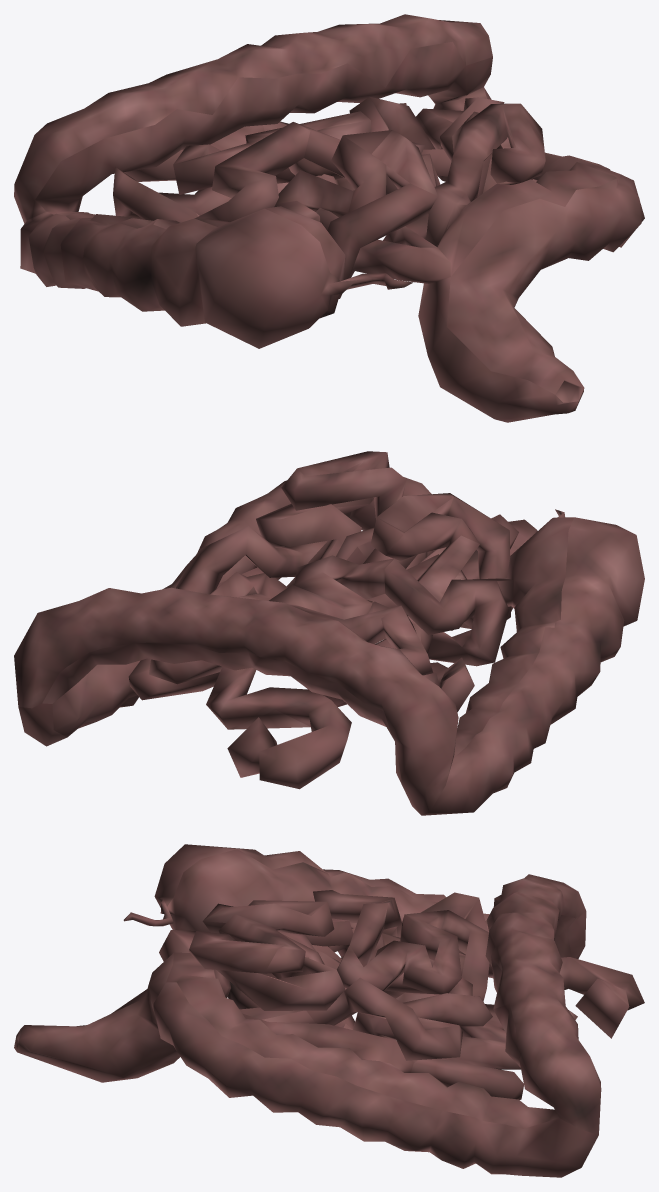
The model's file is TCA_Intestines.fbx.
3 renders of one model, top to bottom at view 1: azimuth 30°, elevation 25°; view 2: azimuth 150°, elevation 25°; view 3: azimuth 270°, elevation 25°, orthographic. The views are drawn at different scales.
Parts seen in each view (by area): view 1: Intestines; view 2: Intestines; view 3: Intestines.
Boxes of the visible parts, box(x1,y1,x2,y2) form: Intestines: box(14, 14, 644, 422); Intestines: box(14, 451, 644, 815); Intestines: box(14, 844, 644, 1177).
Bounding box in the file's own units: 0.4571 × 0.1836 × 0.5671.
